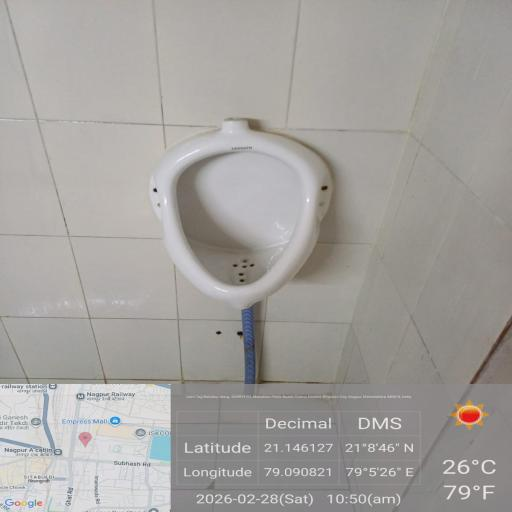clean_floor: (6, 27, 193, 512), (242, 365, 486, 496)
clean_urinal: (112, 111, 408, 350)
